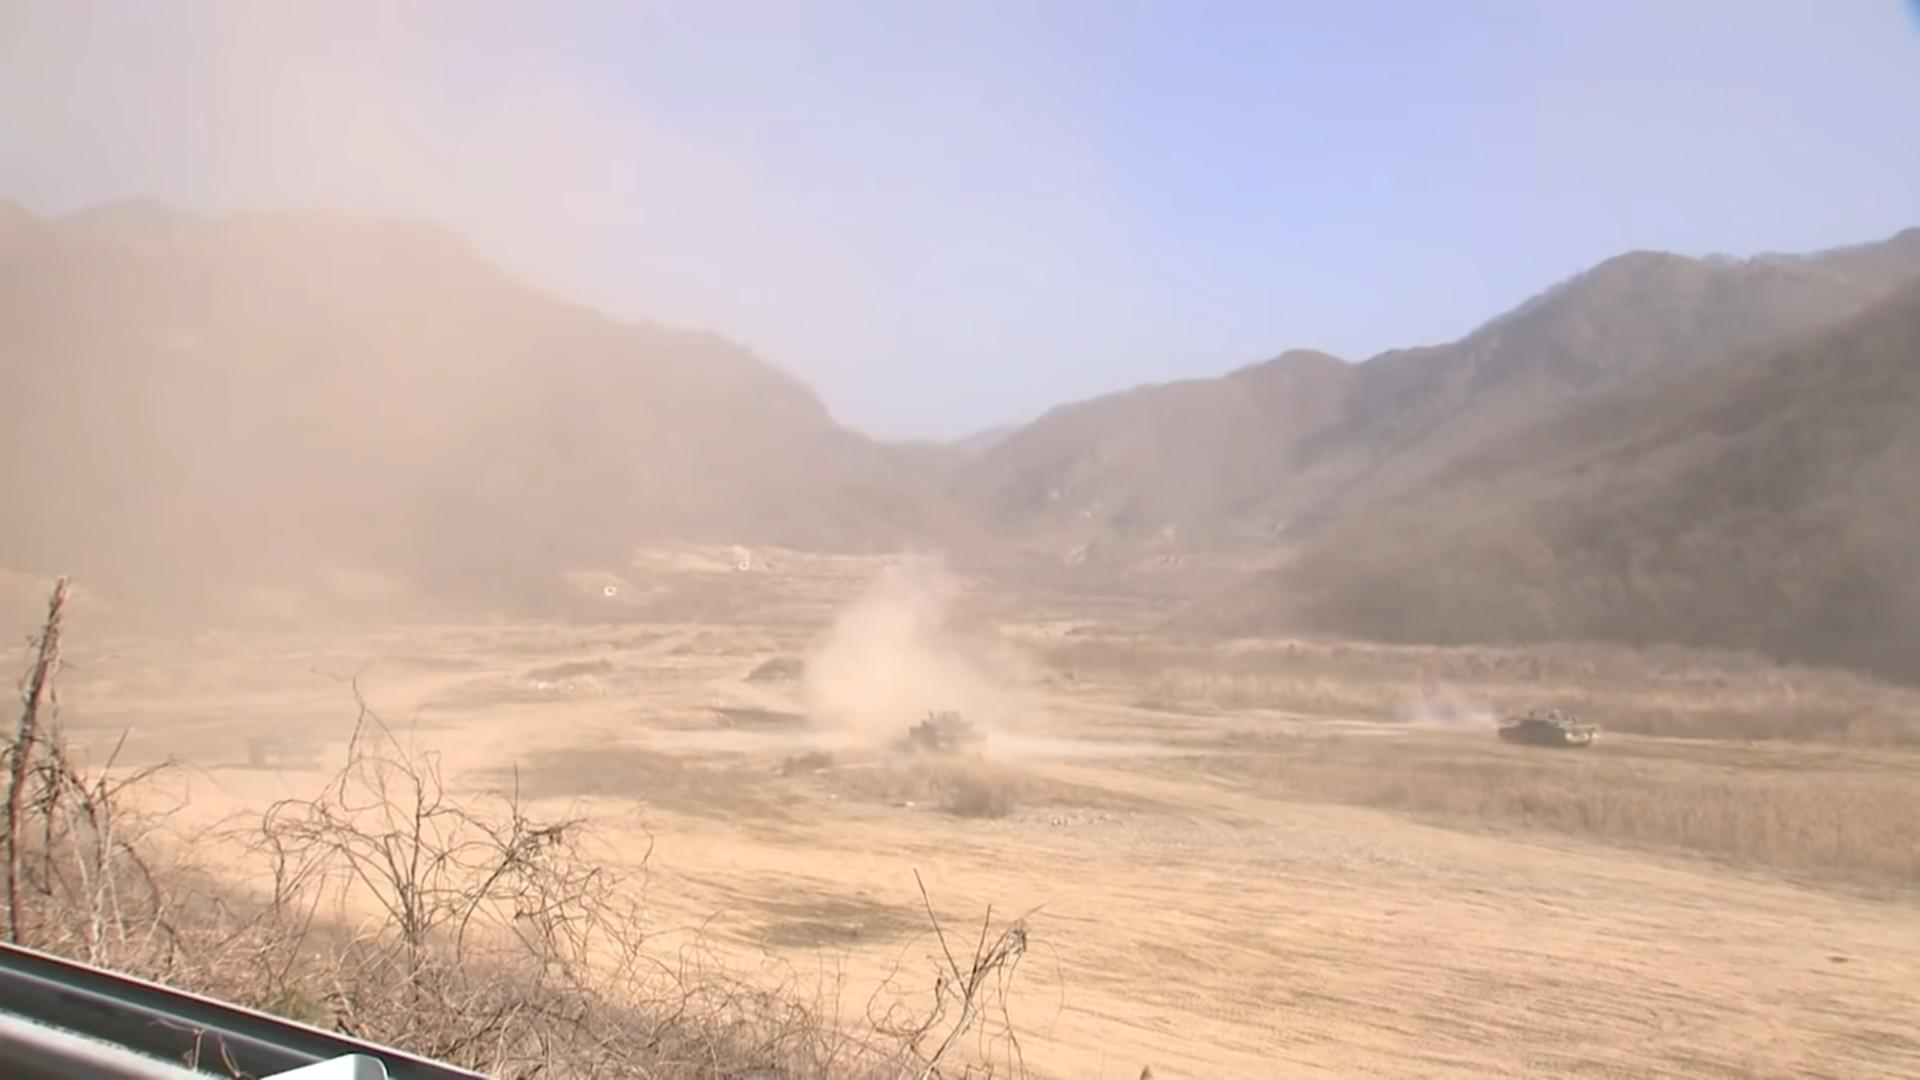tank: (1498, 708, 1600, 748), (909, 711, 988, 753)
